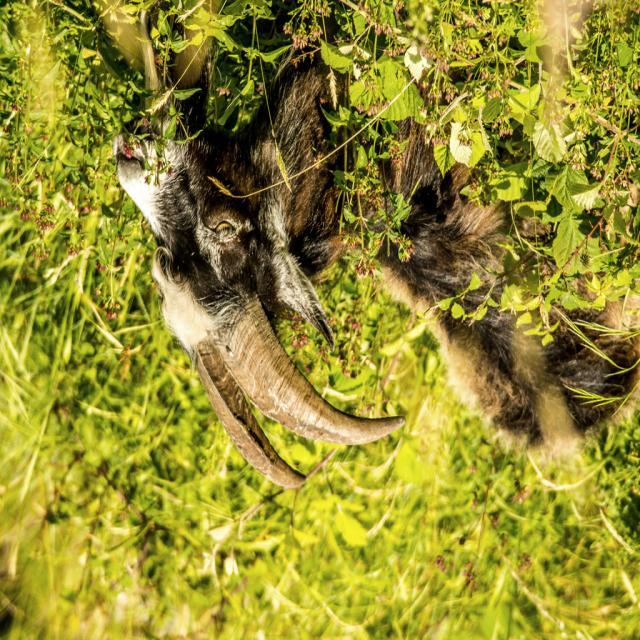Goat: (111, 3, 639, 490)
